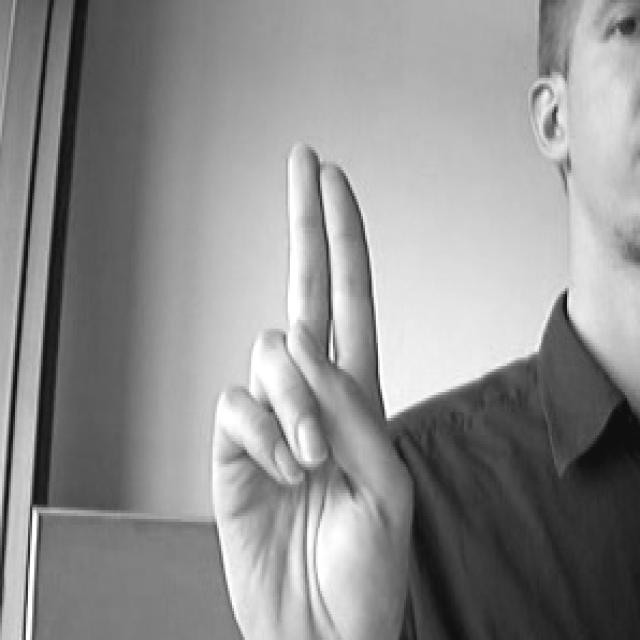U: (155, 121, 438, 640)
